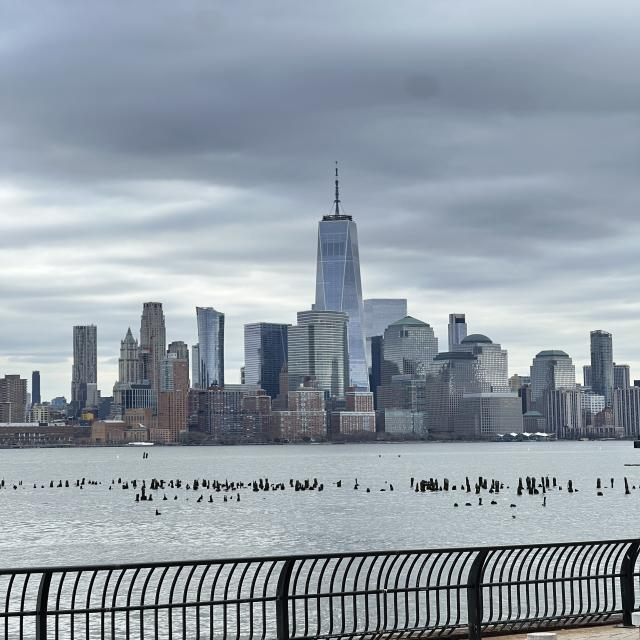WTC: (313, 160, 364, 313)
